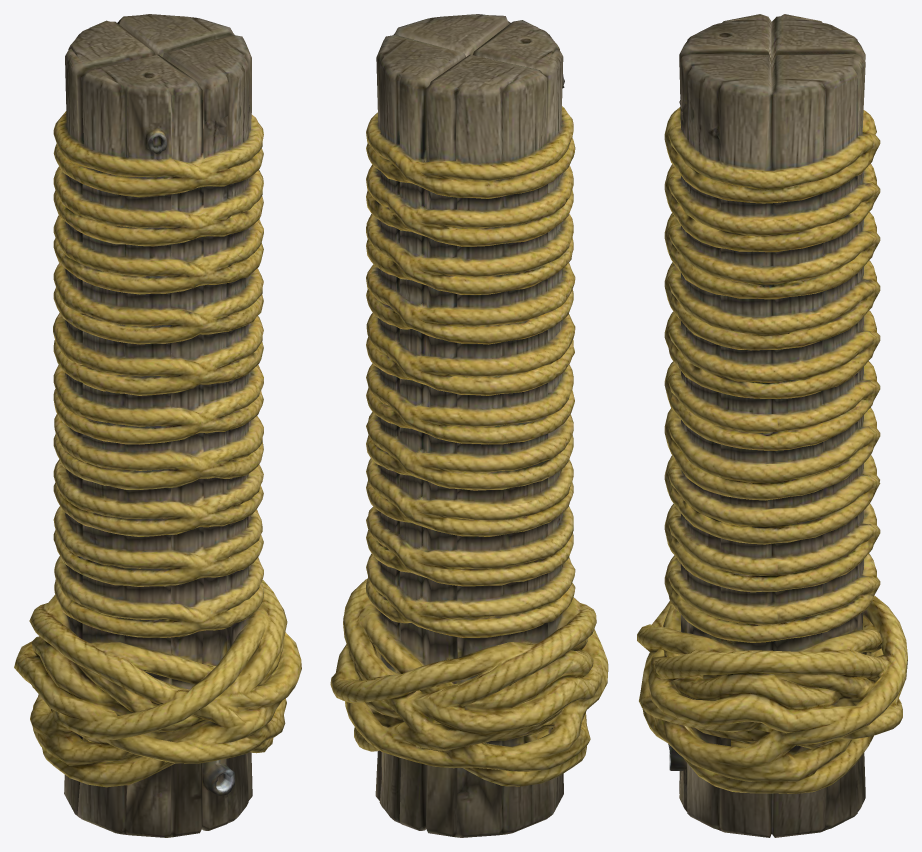
File: lm_guest_post.glb
3 renders of one model, left to right at view 1: azimuth 30°, elevation 25°; view 2: azimuth 150°, elevation 25°; view 3: azimuth 270°, elevation 25°, orthographic.
Parts seen in each view (by area): view 1: lm_guest_post-convcol; view 2: lm_guest_post-convcol; view 3: lm_guest_post-convcol.
Boxes of the visible parts, box(x1,y1,x2,y2) form: lm_guest_post-convcol: box(14, 14, 301, 837); lm_guest_post-convcol: box(330, 14, 608, 837); lm_guest_post-convcol: box(637, 14, 907, 837).
Bounding box in the file's own units: 0.9804 × 3 × 0.9804.
Materials: 1 (1 with a texture image).
